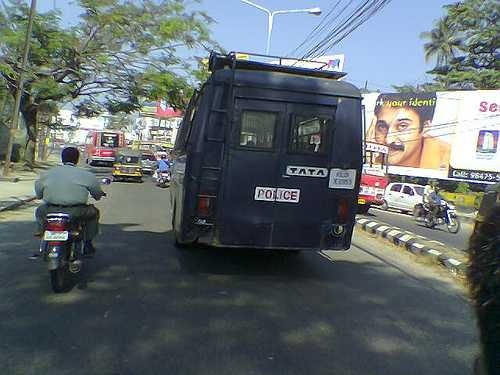Police Van: (145, 44, 388, 274)
